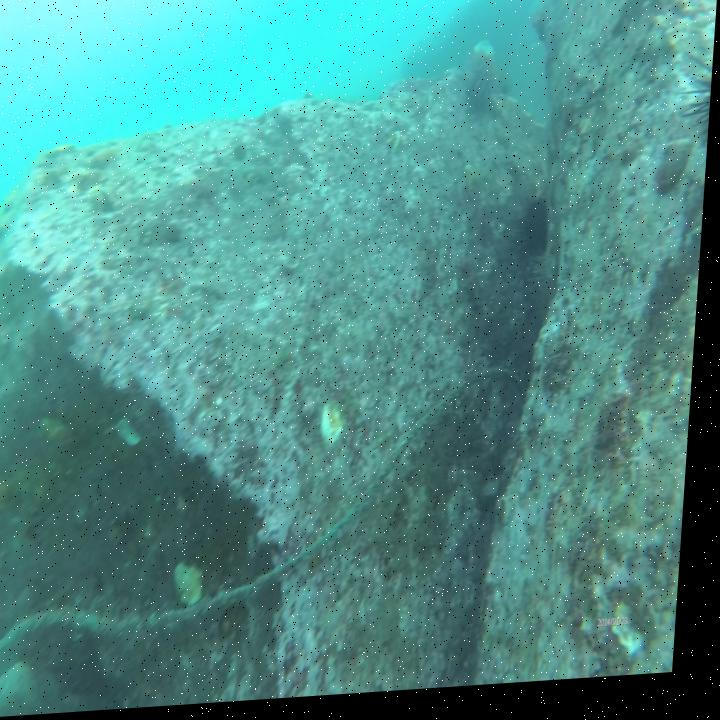echinus: (519, 194, 559, 278), (463, 52, 503, 124)
